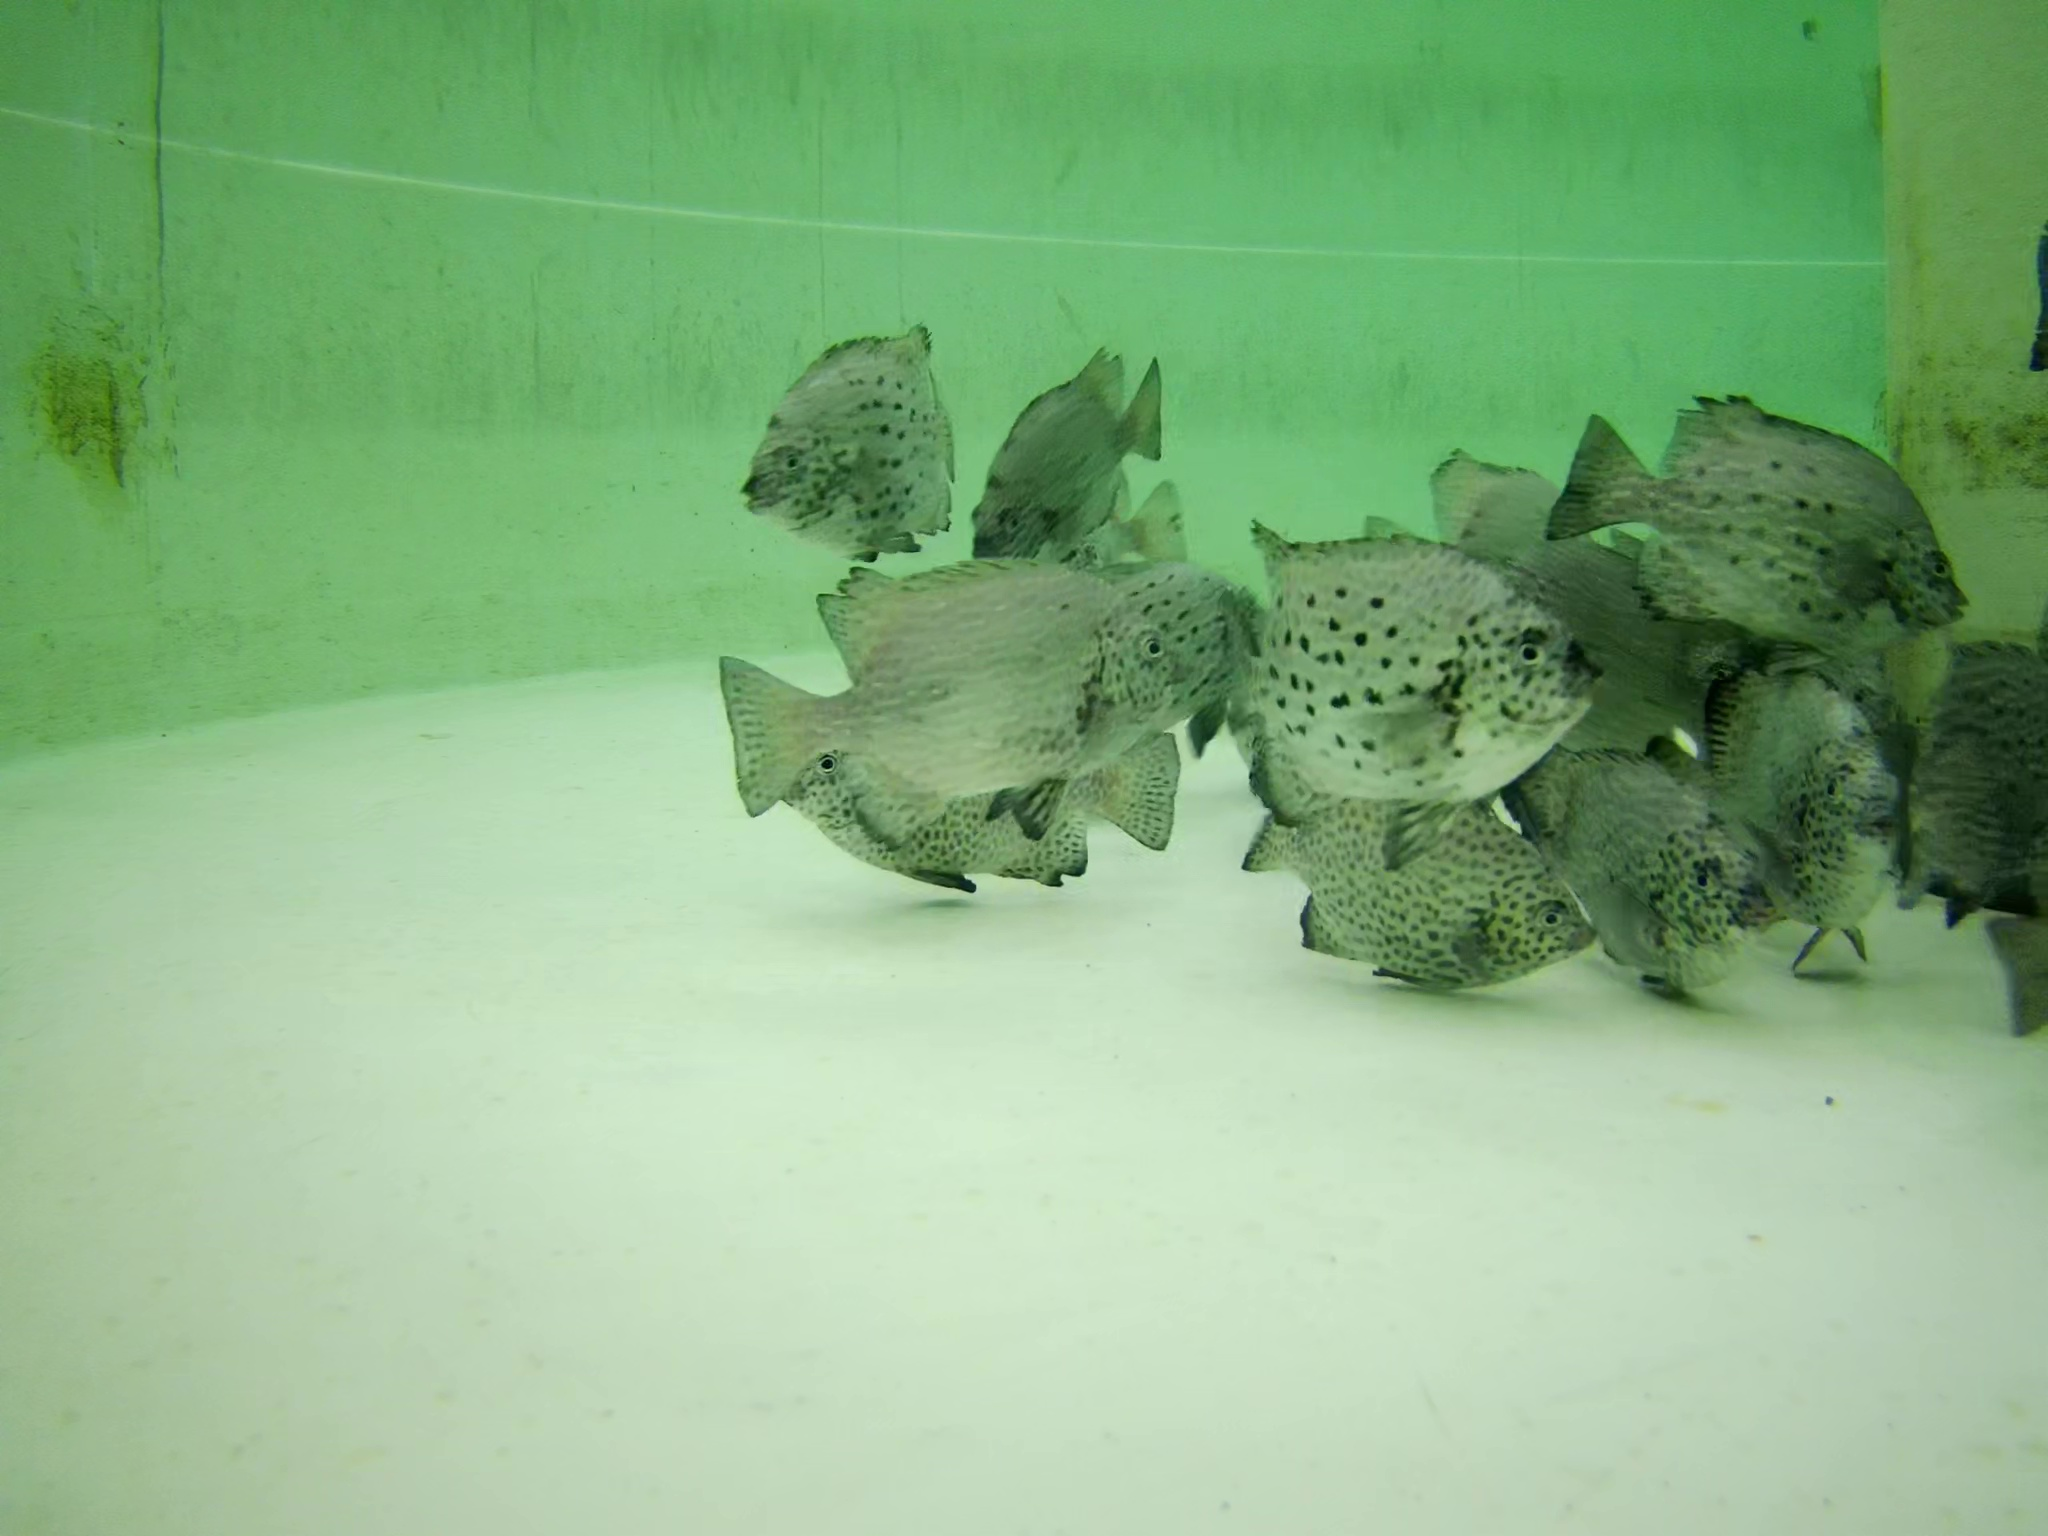fish: (690, 576, 1205, 837), (1213, 518, 1598, 828), (1571, 389, 1966, 657), (1406, 440, 1679, 742), (768, 745, 1206, 912), (1266, 770, 1582, 989), (1705, 657, 1892, 975), (737, 315, 980, 549), (1529, 744, 1732, 997), (964, 347, 1177, 544), (992, 566, 1234, 729), (1909, 644, 2048, 928), (1039, 474, 1193, 570)
